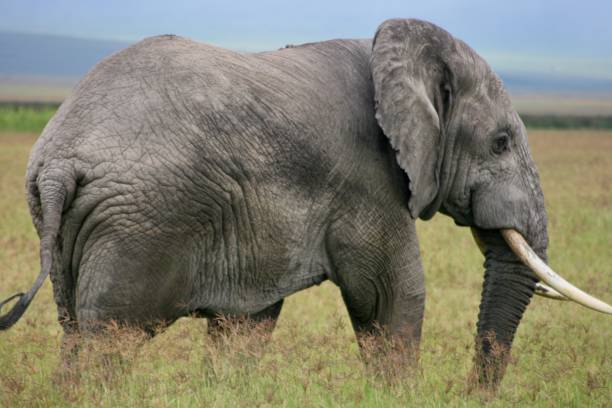africanelephant: (380, 34, 612, 304)
